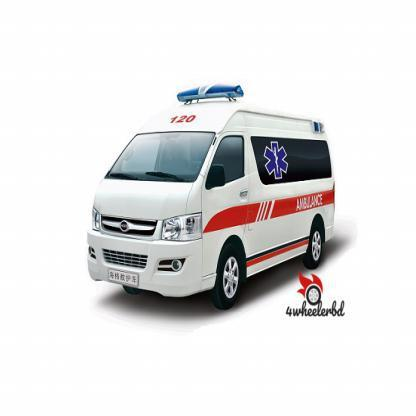Ambulance - v1 Ambulance last generate: (78, 81, 336, 309)
